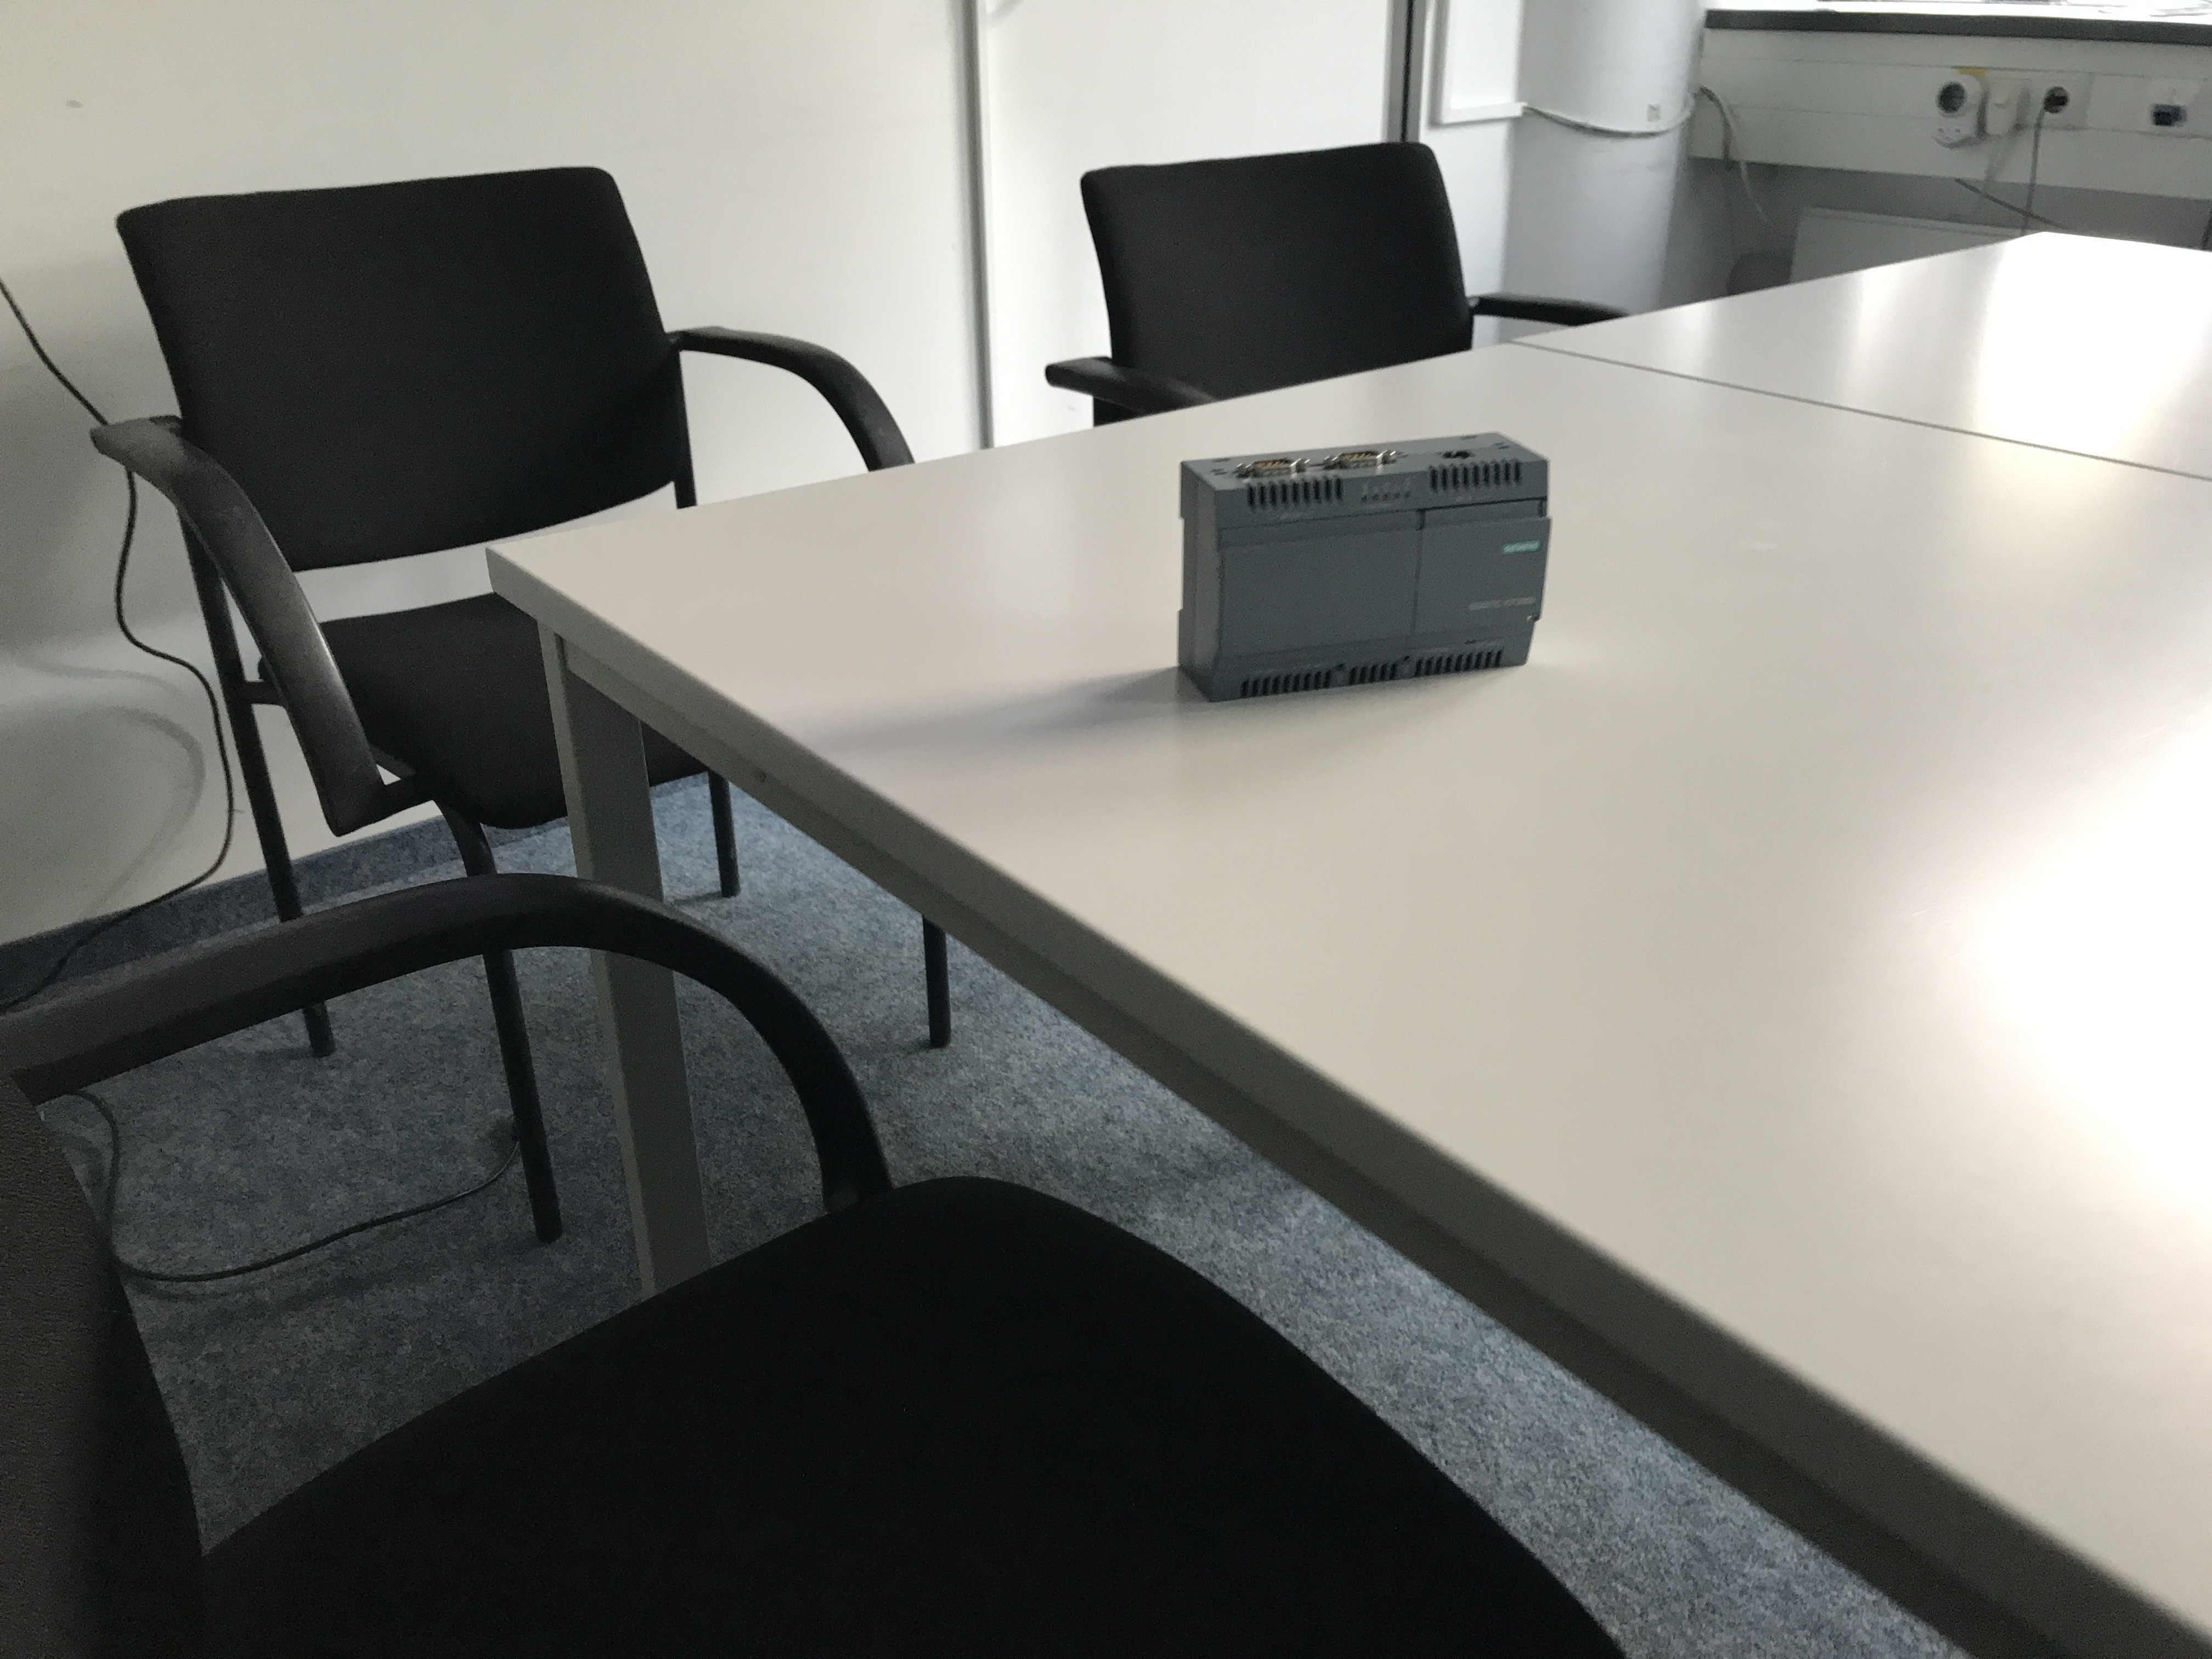device: (1177, 432, 1552, 704)
